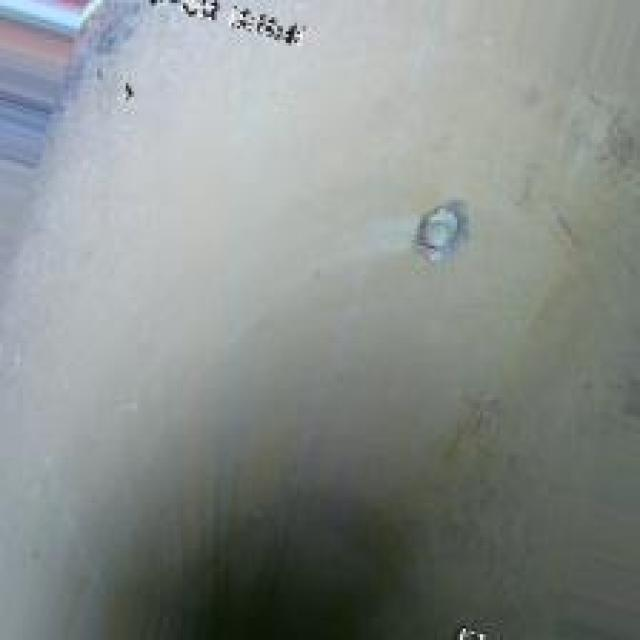ferrule: (411, 197, 466, 257)
